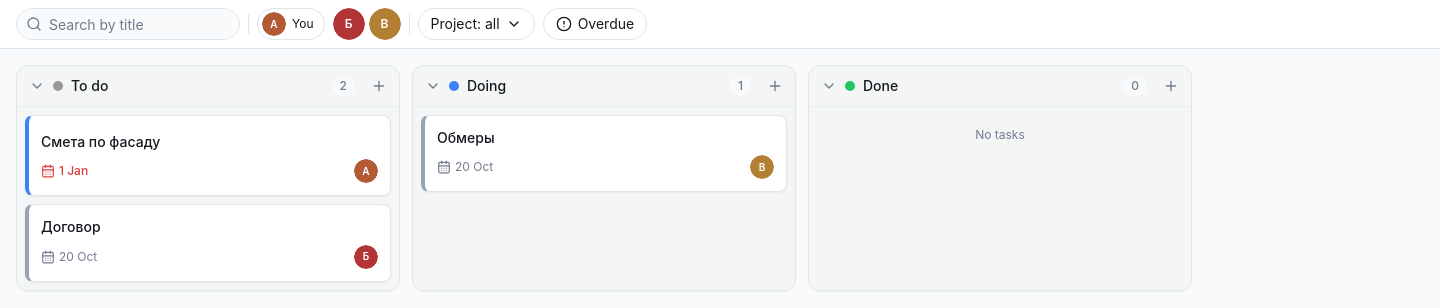
PlannerBoard › quick filters › resets search, overdue and shared filters at once
Expected: the button "Reset" is not shown
Type "zzz" into the search field labelled "Search by title" at {"x": 128, "y": 24}, box [16,8,240,40]
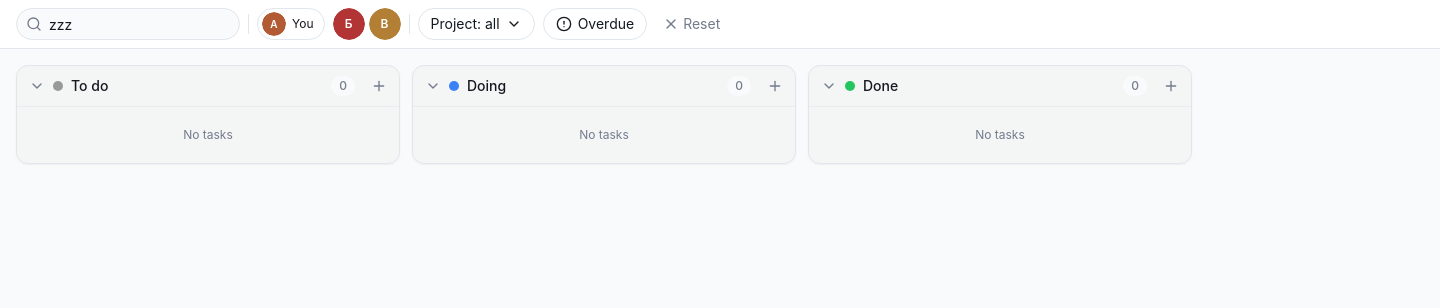
Click the button named "Вера" at {"x": 384, "y": 24}, box [368,8,400,40]
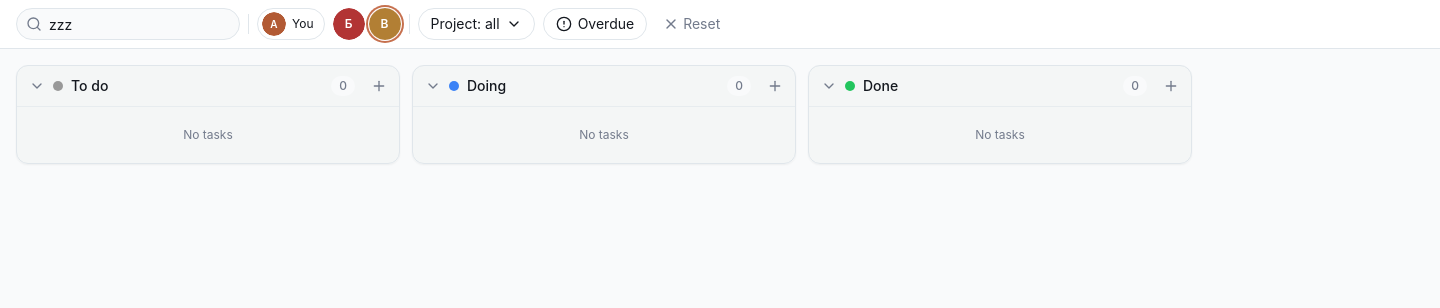
Click the button "Reset" at {"x": 692, "y": 24}, box [655,8,728,40]
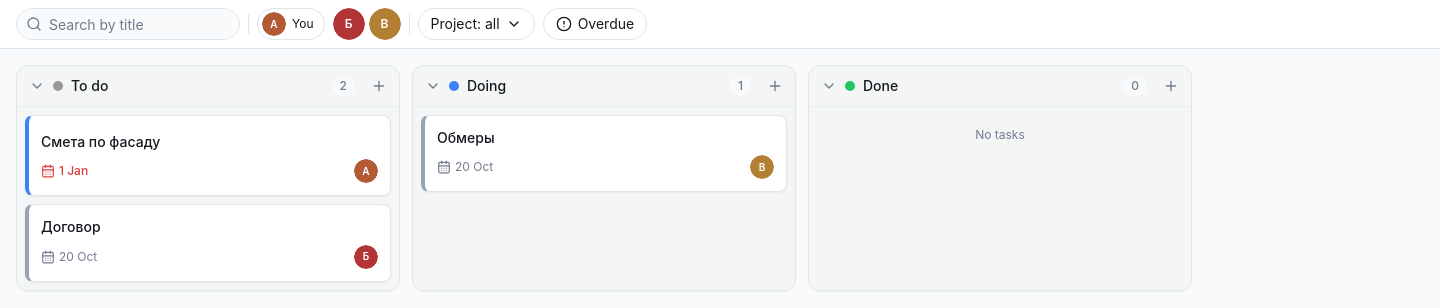
Expected: the search field labelled "Search by title" is empty, [16,8,240,40]
